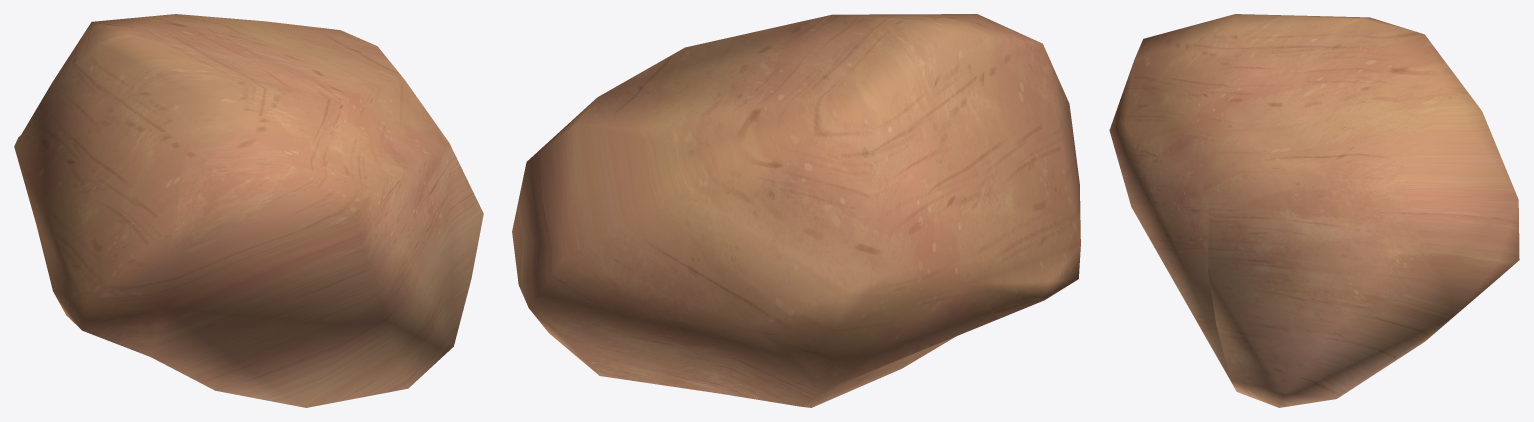
File: rock_1_016.fbx
The picture shows the model from 3 angles, left to right: view 1: azimuth 30°, elevation 25°; view 2: azimuth 150°, elevation 25°; view 3: azimuth 270°, elevation 25°; orthographic projection. The views are drawn at different scales.
Visible parts, largest first — view 1: rock 1.016; view 2: rock 1.016; view 3: rock 1.016.
Part boxes in pixels (x1,y1,x2,y2): rock 1.016: [14, 14, 483, 407]; rock 1.016: [512, 14, 1080, 407]; rock 1.016: [1109, 14, 1519, 407].
Size of the model in its own units: 818 by 678 by 868.
